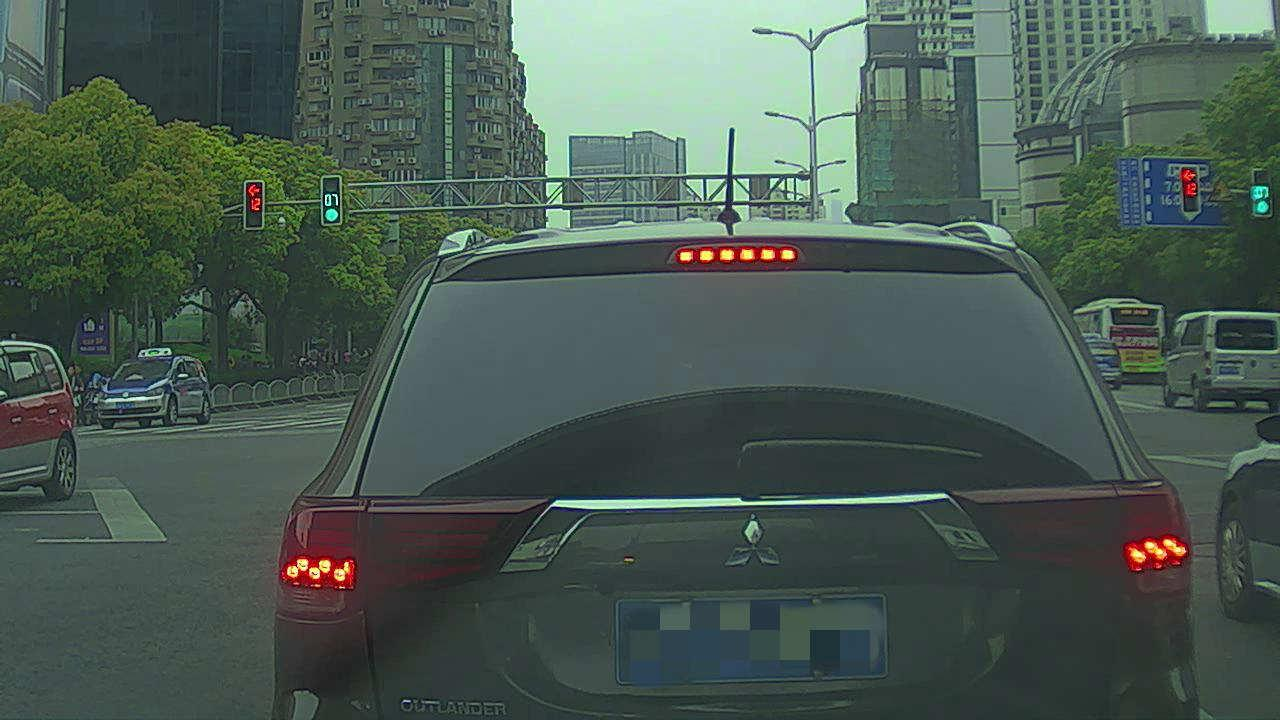traffic_light: (241, 176, 266, 230), (1177, 167, 1203, 213), (321, 174, 344, 225), (1250, 168, 1273, 217)
